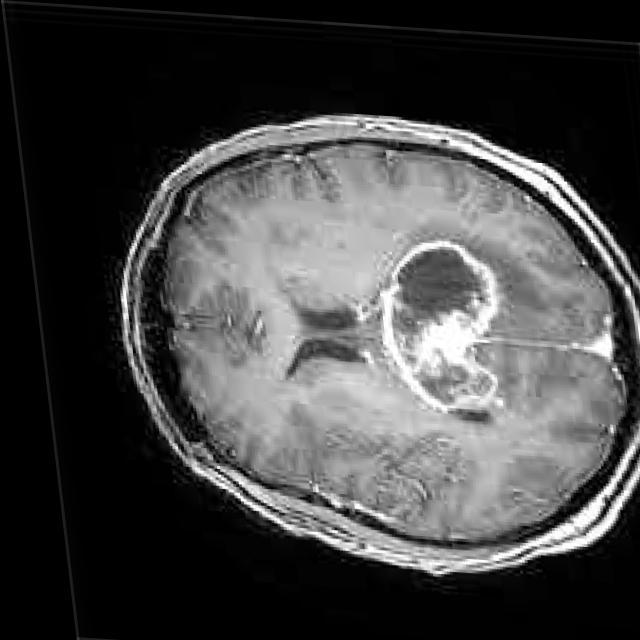Tumor: (379, 237, 489, 410)
